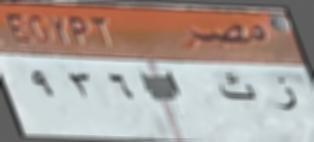3: (67, 68, 94, 103)
6: (107, 67, 135, 105)
9: (28, 66, 56, 105)
alif: (165, 70, 181, 98)
thaa: (216, 69, 257, 107)
zay: (270, 73, 302, 116)
